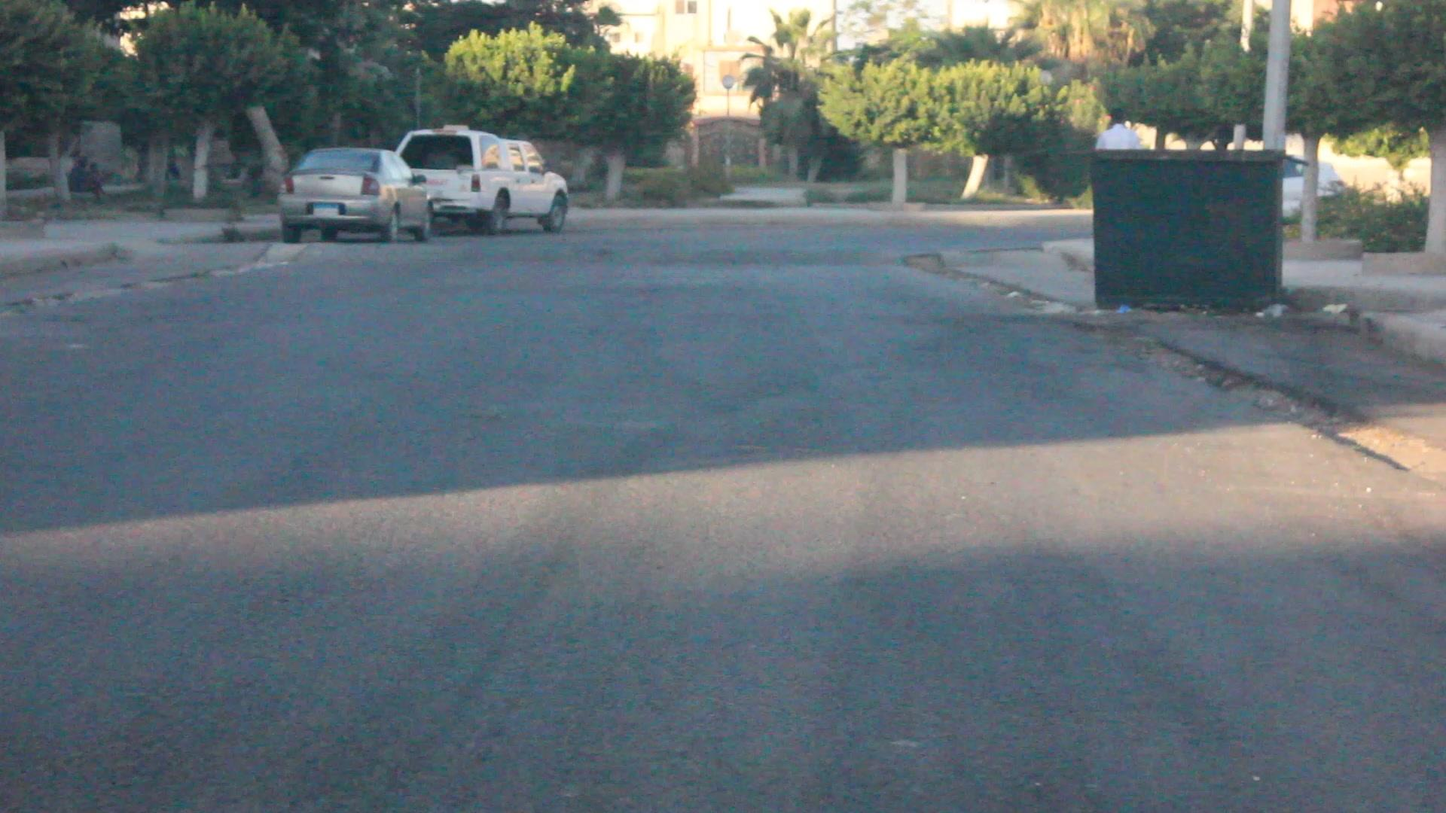Bump: (125, 241, 926, 267)
